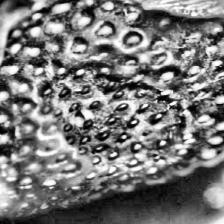Anthracnose Fruit Rot: (31, 58, 199, 172)
